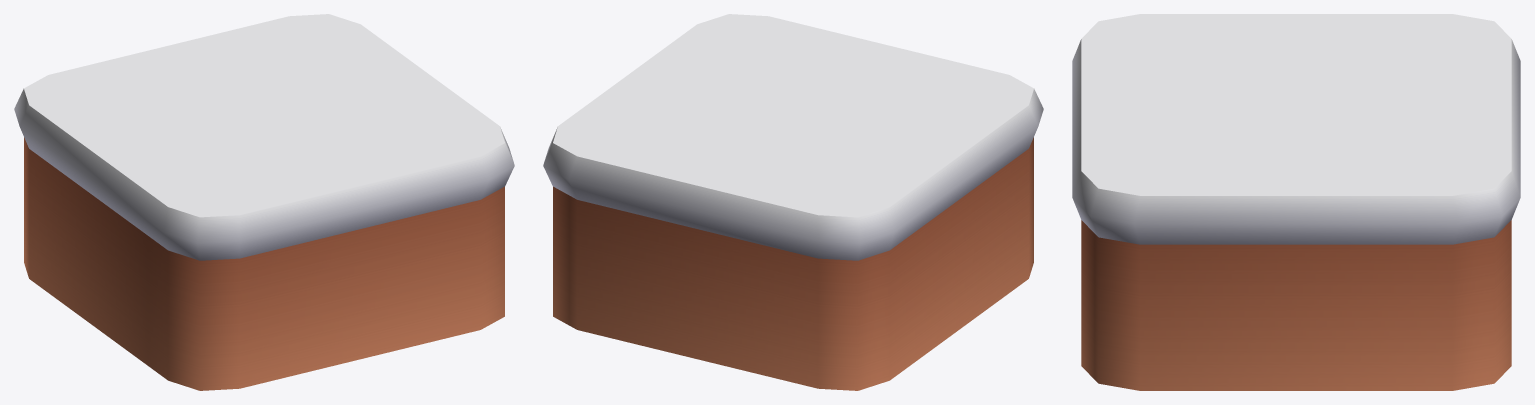
Rendered from finish_block-CkWoqelh.glb.
The picture shows the model from 3 angles, left to right: view 1: azimuth 30°, elevation 25°; view 2: azimuth 150°, elevation 25°; view 3: azimuth 270°, elevation 25°; orthographic projection. The views are drawn at different scales.
Parts seen in each view (by area): view 1: block-snow-large; view 2: block-snow-large; view 3: block-snow-large.
Part boxes in pixels (x1=…): block-snow-large: x1=14, y1=14, x2=514, y2=390; block-snow-large: x1=543, y1=14, x2=1043, y2=390; block-snow-large: x1=1072, y1=14, x2=1520, y2=390.
Size of the model in its own units: 2.08 by 1 by 2.08.
Materials: 1 (1 with a texture image).
